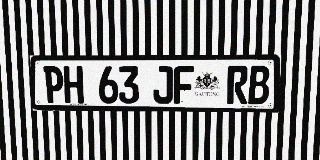3: (119, 66, 139, 104)
6: (98, 66, 119, 104)
B: (248, 66, 270, 104)
F: (174, 66, 194, 104)
H: (63, 66, 84, 103)
J: (153, 66, 173, 104)
P: (43, 66, 64, 103)
R: (227, 66, 248, 104)
